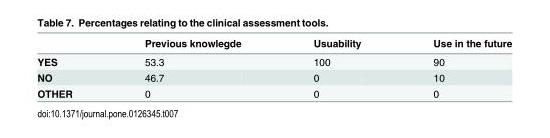table: (36, 36, 511, 98)
table column: (107, 36, 276, 98), (276, 36, 396, 98), (396, 36, 511, 98), (36, 36, 107, 98)
table column header: (36, 36, 511, 51)
table row: (36, 51, 511, 69), (36, 69, 511, 85), (36, 36, 511, 51), (36, 85, 511, 98)
